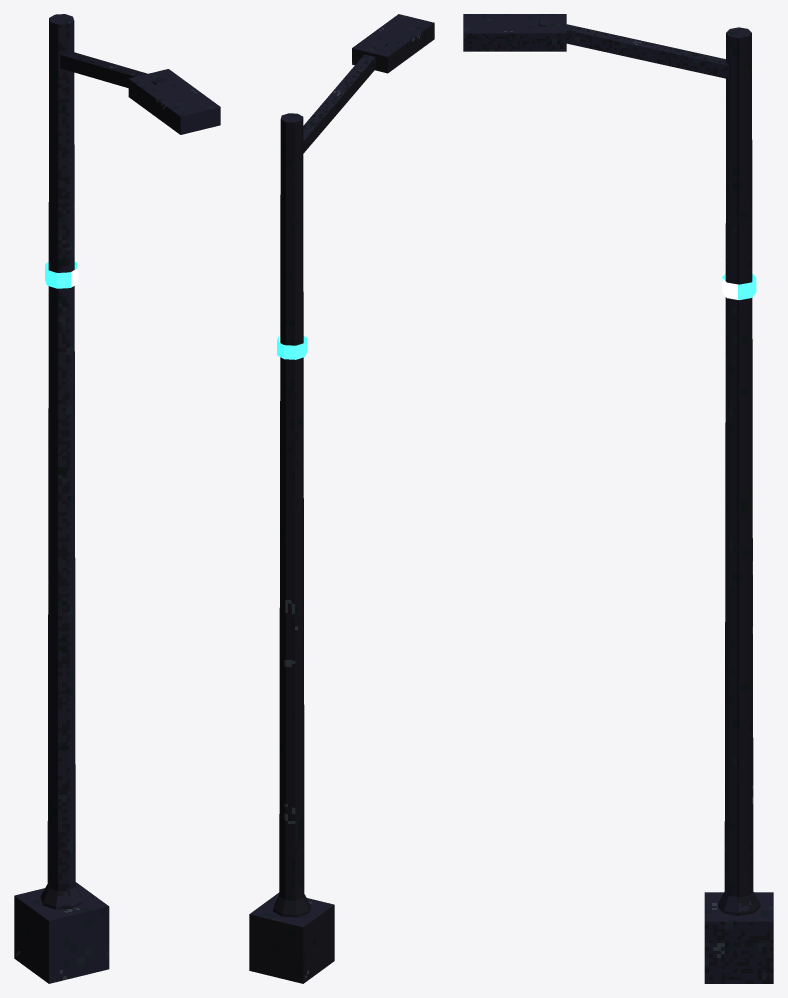
File: street_lamp.glb
The picture shows the model from 3 angles, left to right: view 1: azimuth 30°, elevation 25°; view 2: azimuth 150°, elevation 25°; view 3: azimuth 270°, elevation 25°; orthographic projection. The views are drawn at different scales.
Parts seen in each view (by area): view 1: prop; view 2: prop; view 3: prop.
Part boxes in pixels (x1,y1,x2,y2): prop: (14,14,220,983); prop: (249,14,434,983); prop: (463,14,773,983).
Size of the model in its own units: 0.24 by 3.64 by 1.08.
1 material, 1 textured.
